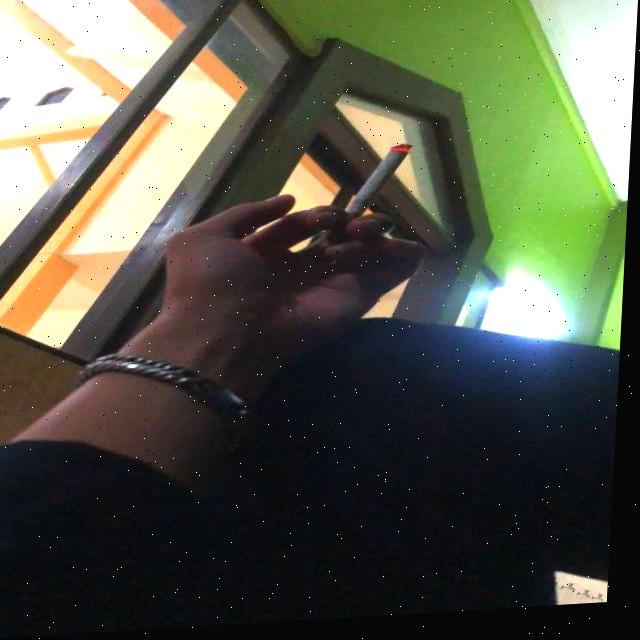cigarette: (348, 149, 412, 219)
